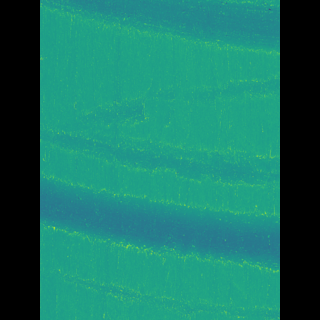Loch: (69, 72, 249, 185), (70, 170, 250, 275), (68, 0, 250, 53), (77, 264, 249, 320)
